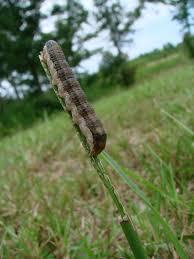fallarmy_worm: (36, 37, 112, 161)
